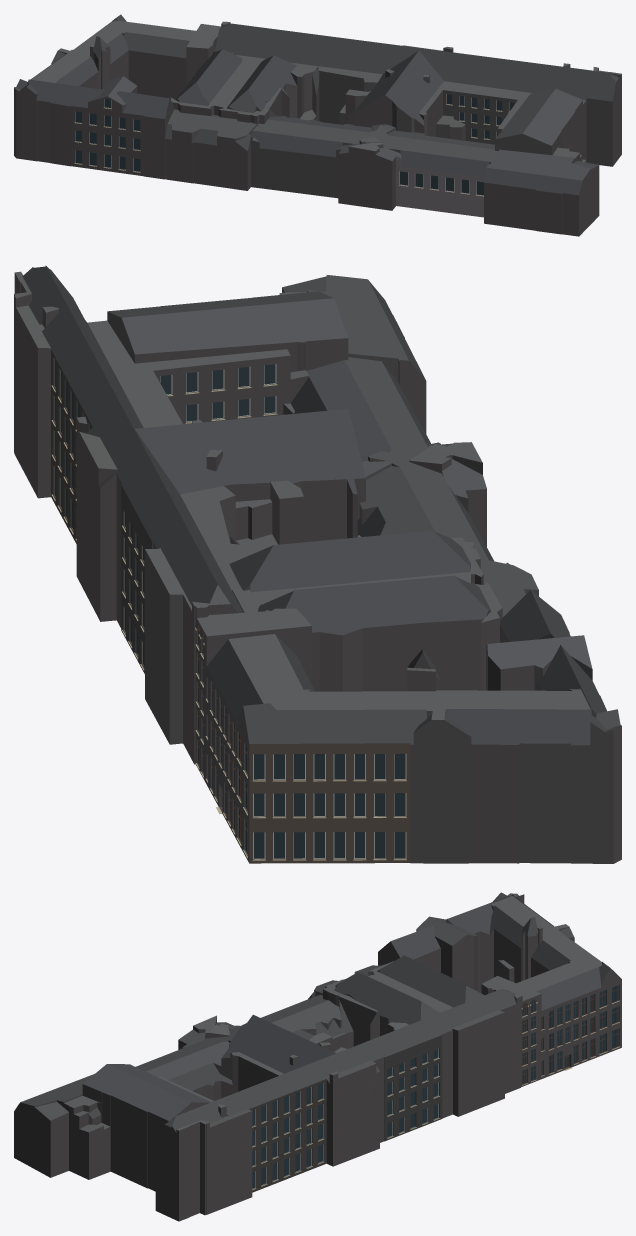
Rendered from recipe-large-pand-165427.glb.
3 views of the same model, one above another, from view 1: azimuth 30°, elevation 25°; view 2: azimuth 150°, elevation 25°; view 3: azimuth 270°, elevation 25° (orthographic). The views are drawn at different scales.
Visible parts, largest first — view 1: pand-165427; view 2: pand-165427; view 3: pand-165427.
Part boxes in pixels (left/top/right/bottom): pand-165427: left=14, top=14, right=621, bottom=236; pand-165427: left=14, top=265, right=621, bottom=863; pand-165427: left=14, top=892, right=621, bottom=1221.
Size of the model in its own units: 121 by 23.21 by 124.
